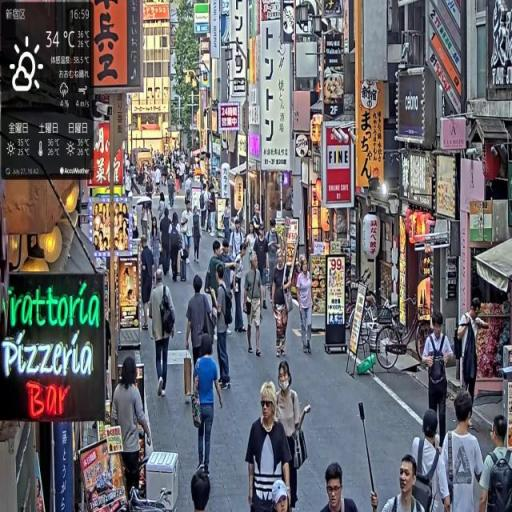person: (244, 382, 294, 512), (438, 390, 487, 512), (275, 358, 312, 512), (112, 357, 154, 491), (422, 309, 458, 454), (192, 336, 225, 478), (410, 408, 450, 512), (186, 274, 217, 402), (150, 267, 178, 400), (477, 414, 512, 512), (457, 299, 483, 424), (211, 265, 234, 392), (383, 453, 432, 512), (271, 248, 293, 361), (243, 257, 265, 361), (296, 257, 317, 358), (322, 463, 361, 512), (140, 237, 156, 335), (169, 214, 184, 286), (160, 207, 173, 278), (193, 203, 204, 265), (167, 171, 177, 212)
